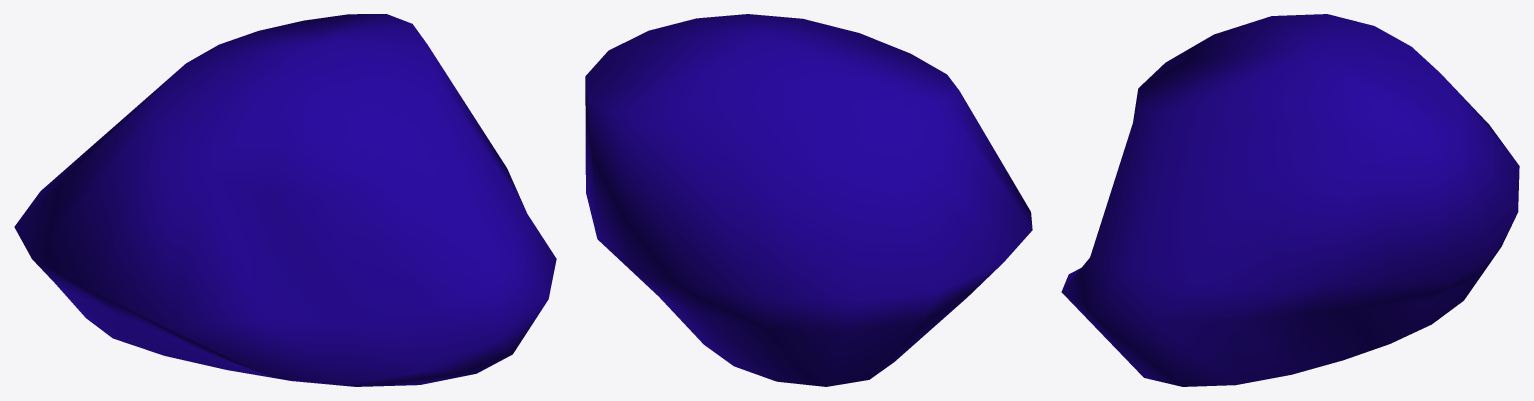
The model's file is CG_Model_TownExt_Rock5_Mar24_ChrisMcknight.FBX.
3 views of the same model, side by side, from view 1: azimuth 30°, elevation 25°; view 2: azimuth 150°, elevation 25°; view 3: azimuth 270°, elevation 25° (orthographic). The views are drawn at different scales.
Visible parts, largest first — view 1: Sphere003; view 2: Sphere003; view 3: Sphere003.
Part boxes in pixels (x1,y1,x2,y2): Sphere003: (14,14,556,386); Sphere003: (585,14,1032,386); Sphere003: (1061,14,1519,386).
Size of the model in its own units: 19.26 by 11.65 by 17.29.
